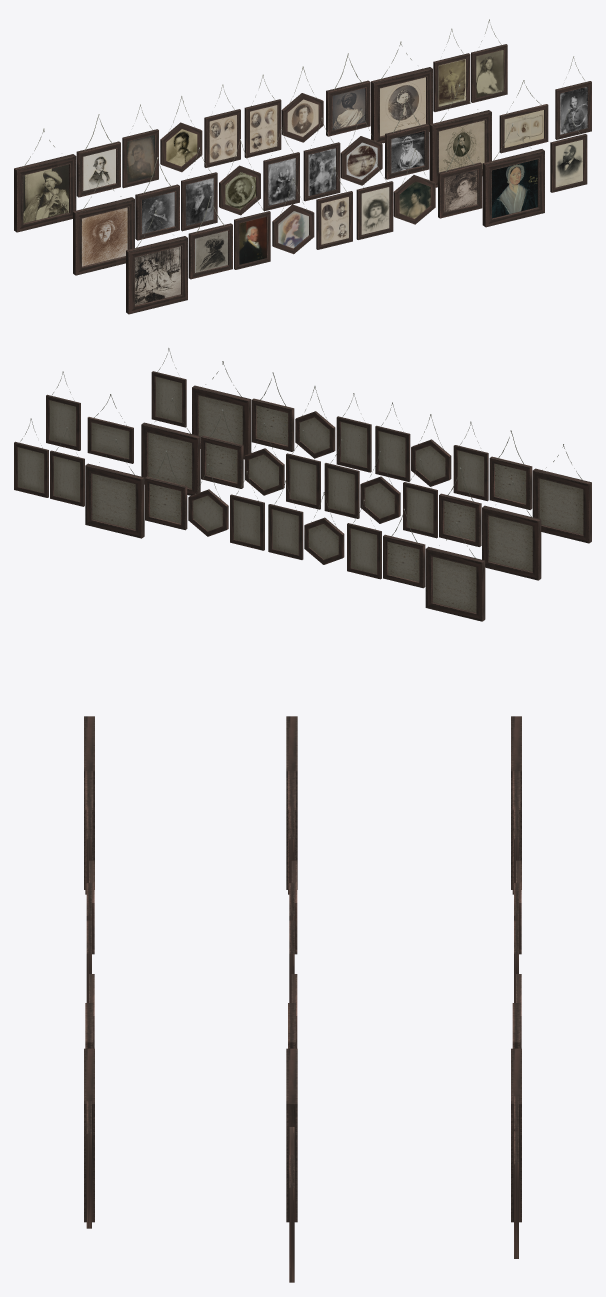
Rendered from Family.Portraits.fbx.
3 views of the same model, one above another, from view 1: azimuth 30°, elevation 25°; view 2: azimuth 150°, elevation 25°; view 3: azimuth 270°, elevation 25° (orthographic). The views are drawn at different scales.
Visible parts, largest first — view 1: Family_Portrait.030, Family_Portrait.001, Family_Portrait.025, Family_Portrait.014, Family_Portrait.008, Family_Portrait.019, Family_Portrait, Family_Portrait.007, Family_Portrait.022, Family_Portrait.029, Family_Portrait.011, Family_Portrait.018 (+20 smaller); view 2: Family_Portrait.001, Family_Portrait.008, Family_Portrait.014, Family_Portrait.025, Family_Portrait.019, Family_Portrait.030, Family_Portrait.029, Family_Portrait.022, Family_Portrait.007, Family_Portrait, Family_Portrait.011, Family_Portrait.018 (+20 smaller); view 3: Family_Portrait.019, Family_Portrait.030, Family_Portrait.008, Family_Portrait.014, Family_Portrait.001, Family_Portrait.025.
Boxes of the visible parts, x1,y1,x2,y2 form: Family_Portrait.030: (482,123,544,227); Family_Portrait.001: (14,128,76,232); Family_Portrait.025: (126,210,187,314); Family_Portrait.014: (73,171,134,275); Family_Portrait.008: (371,41,432,143); Family_Portrait.019: (429,84,491,187); Family_Portrait: (76,114,120,197); Family_Portrait.007: (326,53,370,136); Family_Portrait.022: (188,196,232,279); Family_Portrait.029: (438,135,482,218); Family_Portrait.011: (135,157,179,240); Family_Portrait.018: (385,96,429,179); Family_Portrait.001: (425,522,485,621); Family_Portrait.008: (85,439,144,538); Family_Portrait.014: (482,481,541,580); Family_Portrait.025: (532,444,591,543); Family_Portrait.019: (141,398,200,495); Family_Portrait.030: (192,361,251,459); Family_Portrait.029: (251,372,294,451); Family_Portrait.022: (489,430,532,509); Family_Portrait.007: (145,450,187,530); Family_Portrait: (383,508,425,588); Family_Portrait.011: (439,467,481,546); Family_Portrait.018: (201,409,243,488); Family_Portrait.019: (286,1048,297,1222); Family_Portrait.030: (84,1048,94,1222); Family_Portrait.008: (511,1048,521,1222); Family_Portrait.014: (286,716,297,889); Family_Portrait.001: (511,716,521,889); Family_Portrait.025: (84,716,94,889).
Size of the model in its own units: 704 by 127 by 271.
